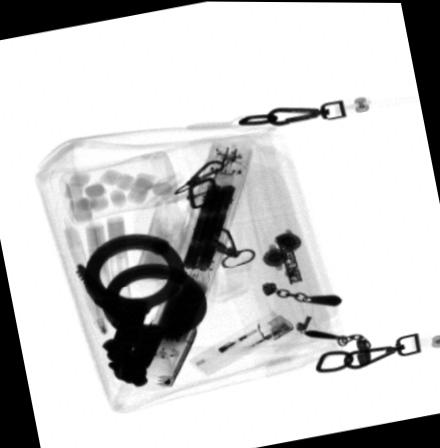Baton: (130, 139, 252, 387)
HandCuffs: (76, 233, 207, 384)
Lighter: (189, 309, 293, 374)
